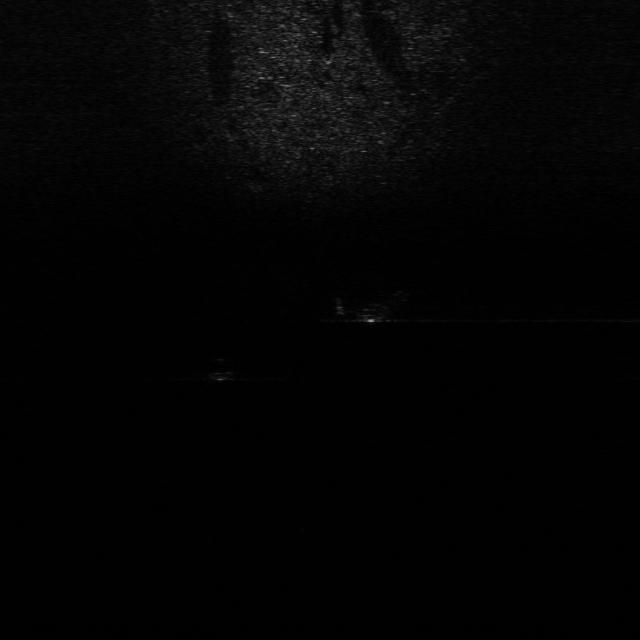ball: (200, 352, 244, 386)
human body: (324, 285, 416, 333)
